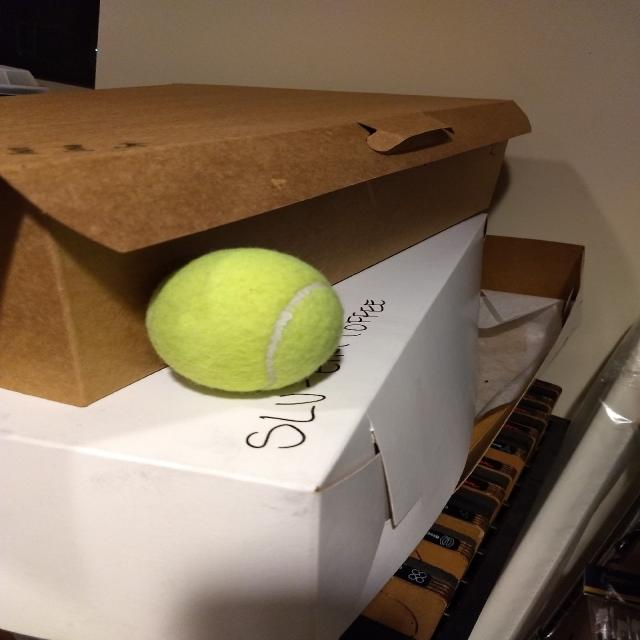Tennis-Ball: (147, 243, 344, 405)
